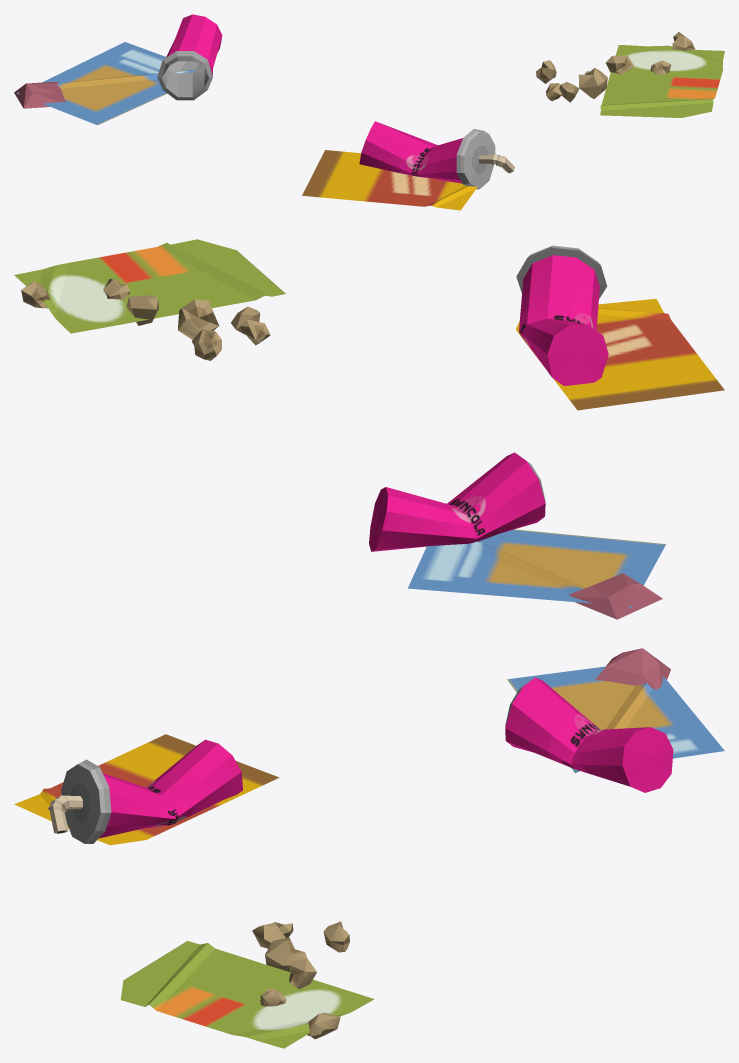
File: SM_Prop_Rubbish_03.fbx
3 views of the same model, one above another, from view 1: azimuth 30°, elevation 25°; view 2: azimuth 150°, elevation 25°; view 3: azimuth 270°, elevation 25° (orthographic). The views are drawn at different scales.
Visible parts, largest first — view 1: SM_Prop_Rubbish_03; view 2: SM_Prop_Rubbish_03; view 3: SM_Prop_Rubbish_03.
Boxes of the visible parts, left/top/right/bottom form: SM_Prop_Rubbish_03: left=14, top=14, right=724, bottom=210; SM_Prop_Rubbish_03: left=14, top=239, right=724, bottom=619; SM_Prop_Rubbish_03: left=14, top=648, right=724, bottom=1048.
Size of the model in its own units: 135 by 14.1 by 103.
